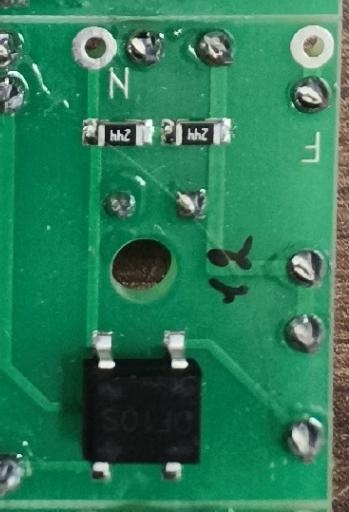chip-resistor: (82, 115, 155, 147), (161, 116, 234, 147)
ic: (82, 326, 204, 480)
